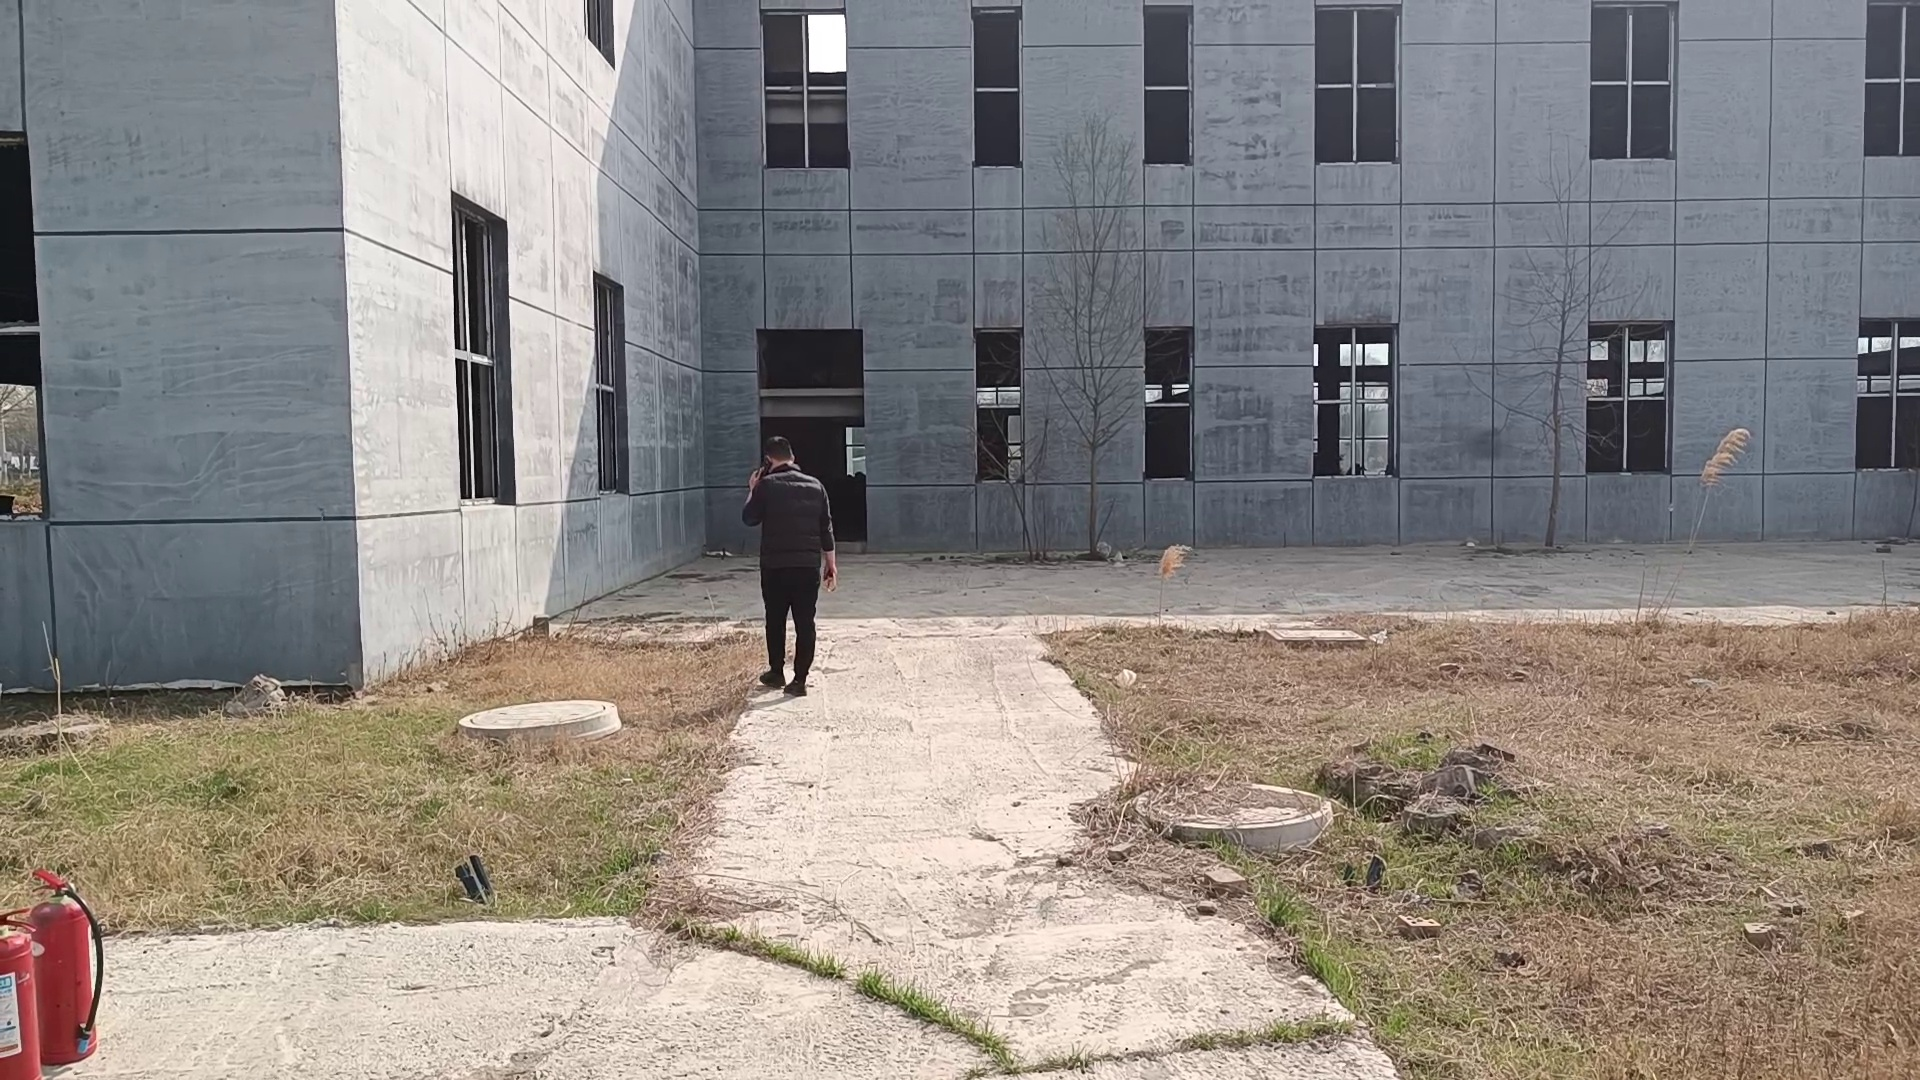phone: (745, 440, 808, 481)
